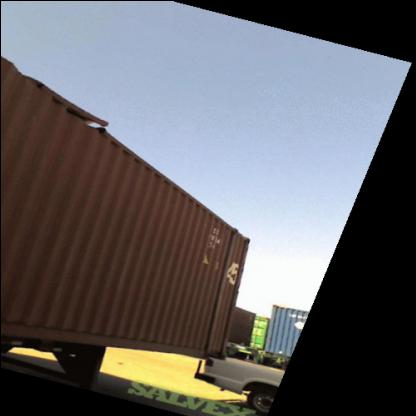Damage: (18, 70, 124, 146), (199, 201, 247, 356)
